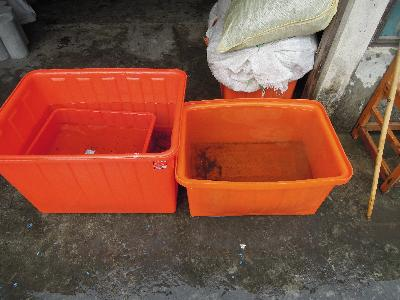box: (1, 67, 188, 215), (174, 97, 355, 218), (22, 107, 159, 160)
